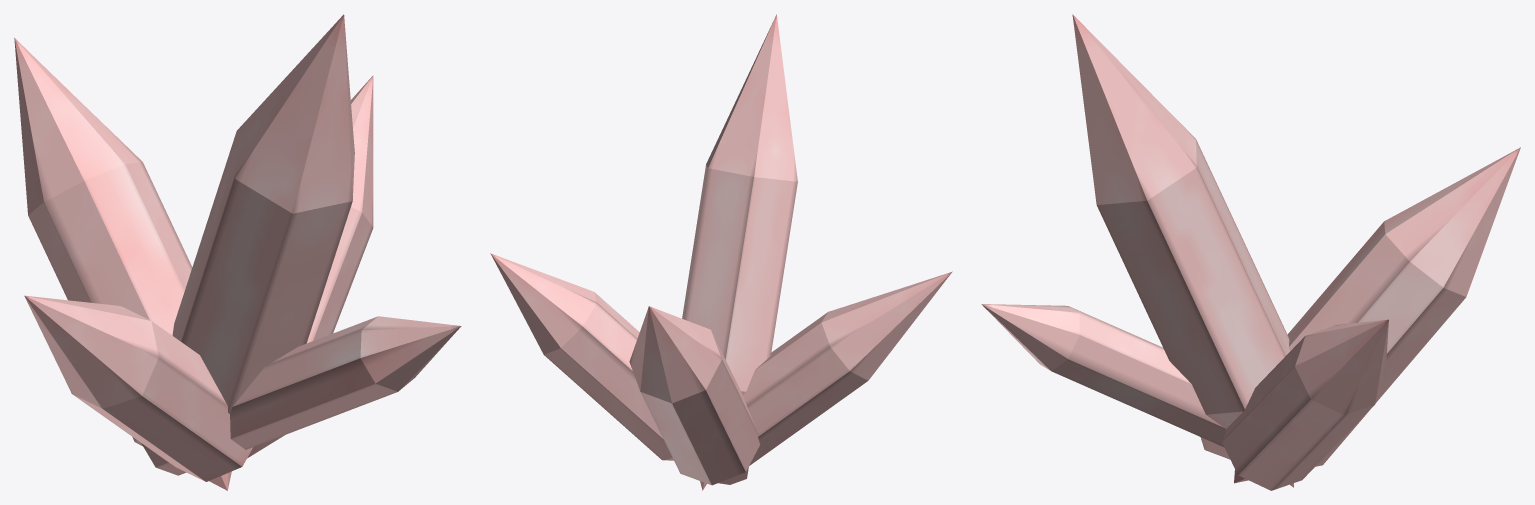
The model's file is ishizakura.obj.
3 views of the same model, side by side, from view 1: azimuth 30°, elevation 25°; view 2: azimuth 150°, elevation 25°; view 3: azimuth 270°, elevation 25° (orthographic). The views are drawn at different scales.
Parts seen in each view (by area): view 1: center_crystal, front, right_crystal, cylinder, left_crystal; view 2: center_crystal, right_crystal, front, left_crystal; view 3: center_crystal, front, left_crystal, cylinder.
Boxes of the visible parts, x1,y1,x2,y2 form: center_crystal: [172, 14, 354, 413]; front: [14, 38, 231, 490]; right_crystal: [24, 295, 252, 481]; cylinder: [141, 316, 461, 475]; left_crystal: [247, 75, 373, 458]; center_crystal: [682, 14, 797, 490]; right_crystal: [743, 271, 952, 465]; front: [629, 306, 760, 485]; left_crystal: [490, 253, 673, 460]; center_crystal: [1072, 14, 1293, 487]; front: [1234, 147, 1520, 483]; left_crystal: [1222, 319, 1388, 490]; cylinder: [981, 304, 1225, 447].
Size of the model in its own units: 0.8636 by 0.923 by 0.9324.
